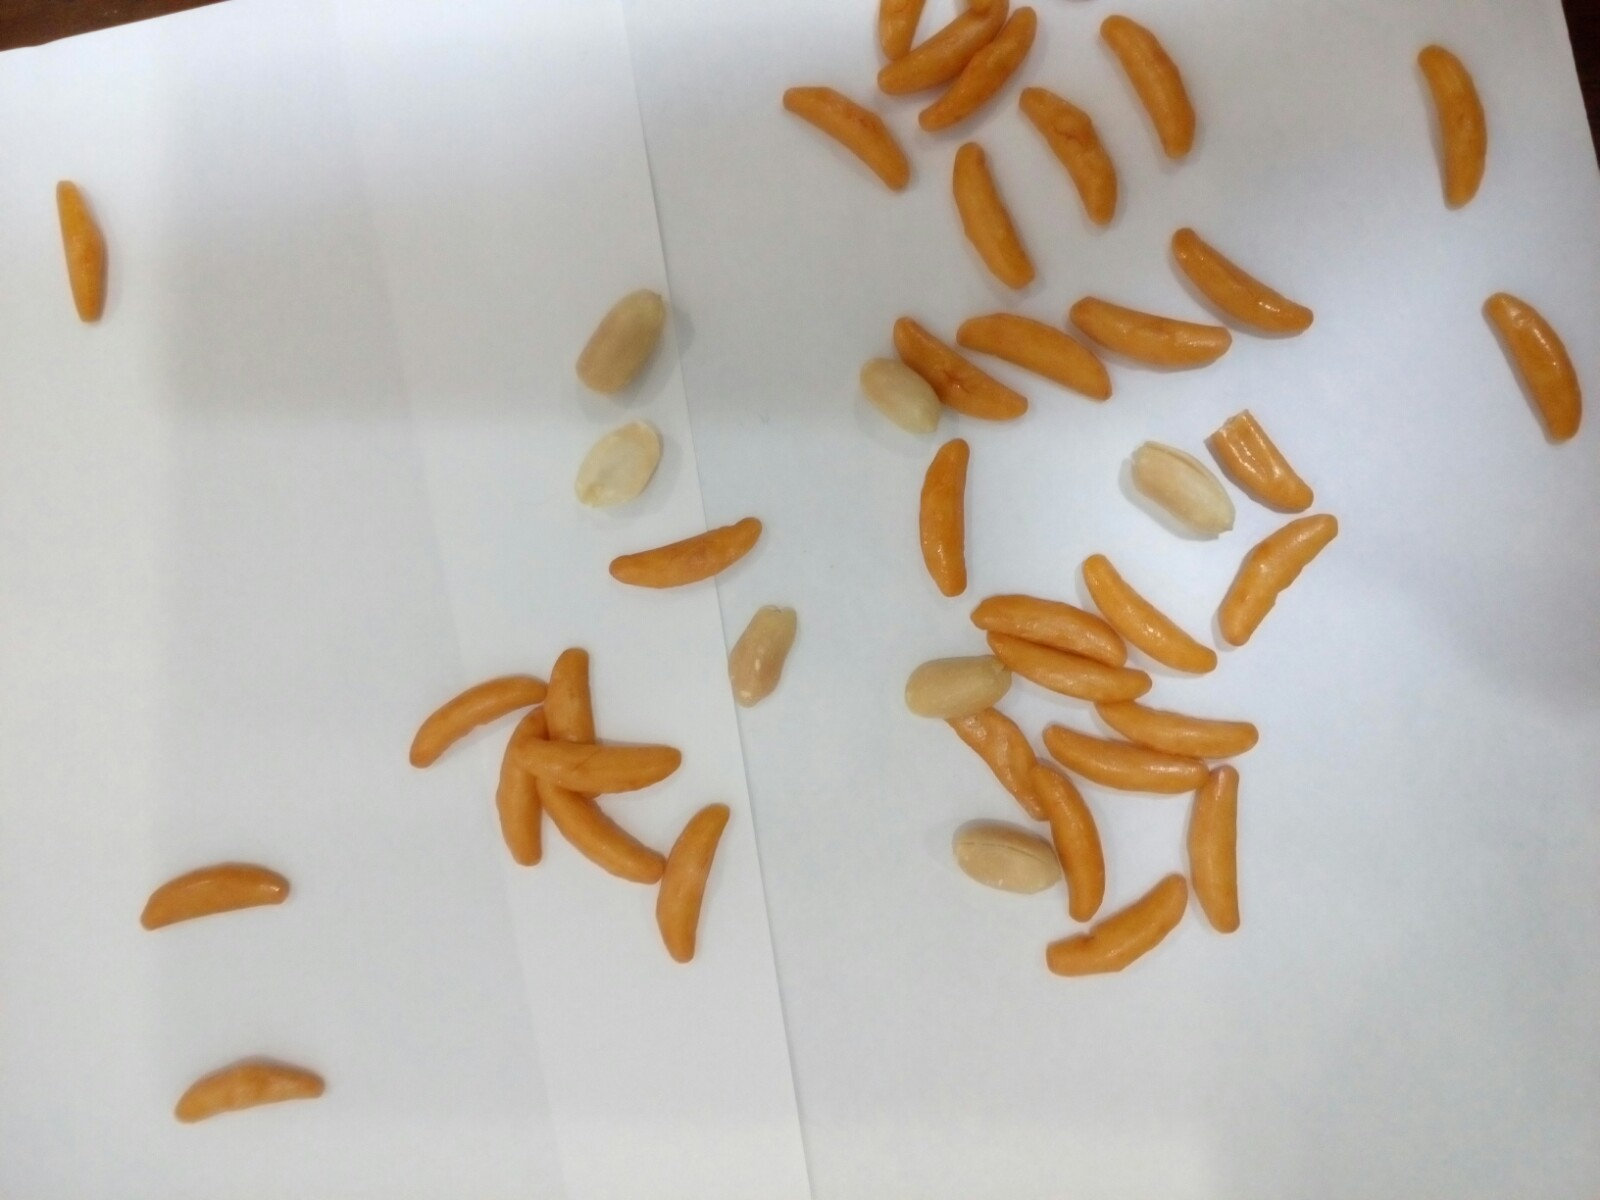peanut: (1128, 434, 1237, 545), (949, 811, 1070, 904), (568, 415, 679, 516), (576, 285, 668, 403), (852, 347, 956, 450), (719, 595, 806, 708), (903, 650, 1018, 724)
